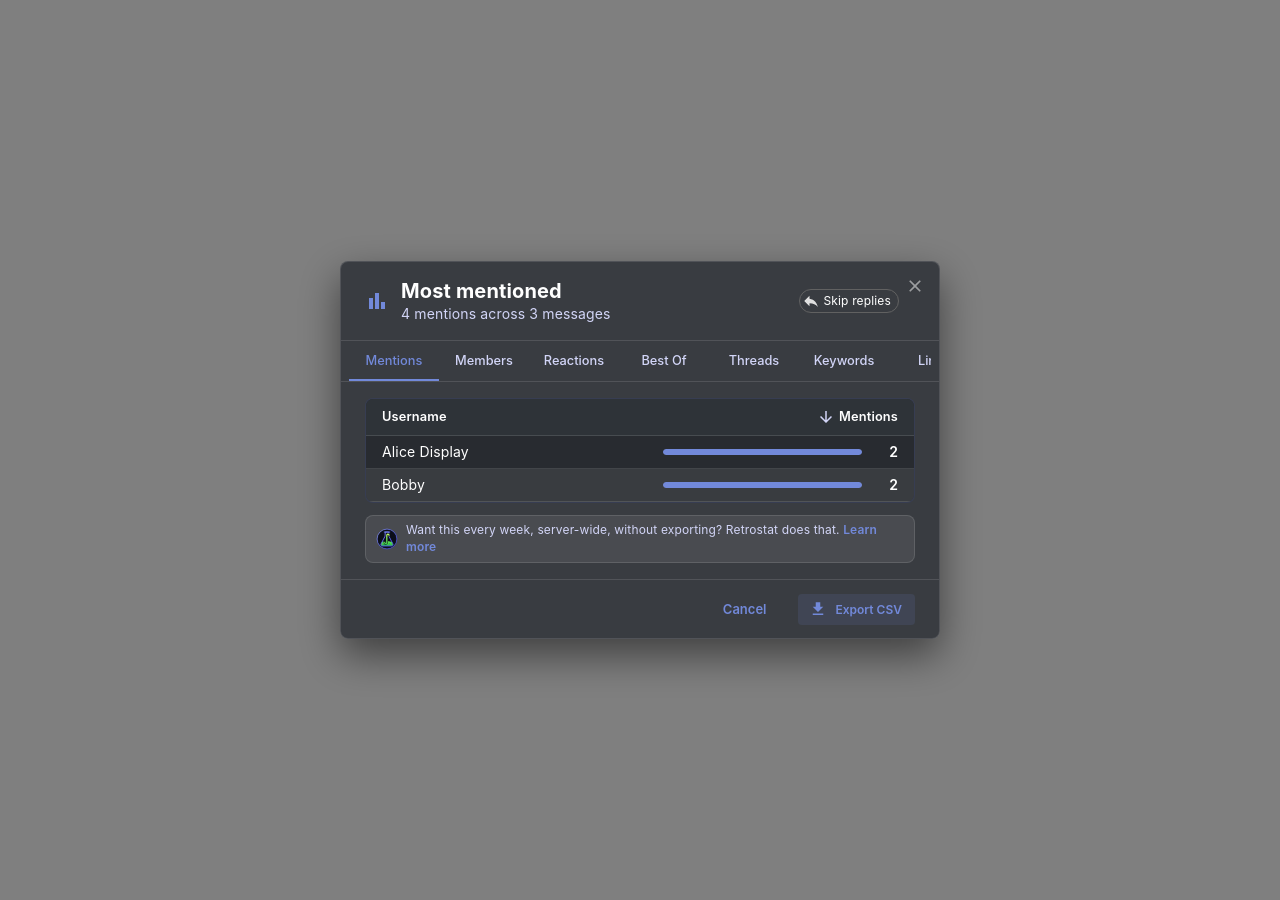
Test: AnalyticsModal › should exclude reply messages when skip replies is checked (Mentions only)
expect the text "4 mentions across 3 messages" is shown: met, box [401, 304, 611, 322]
Click the button "Skip replies" at [849, 300], box [800, 288, 899, 312]
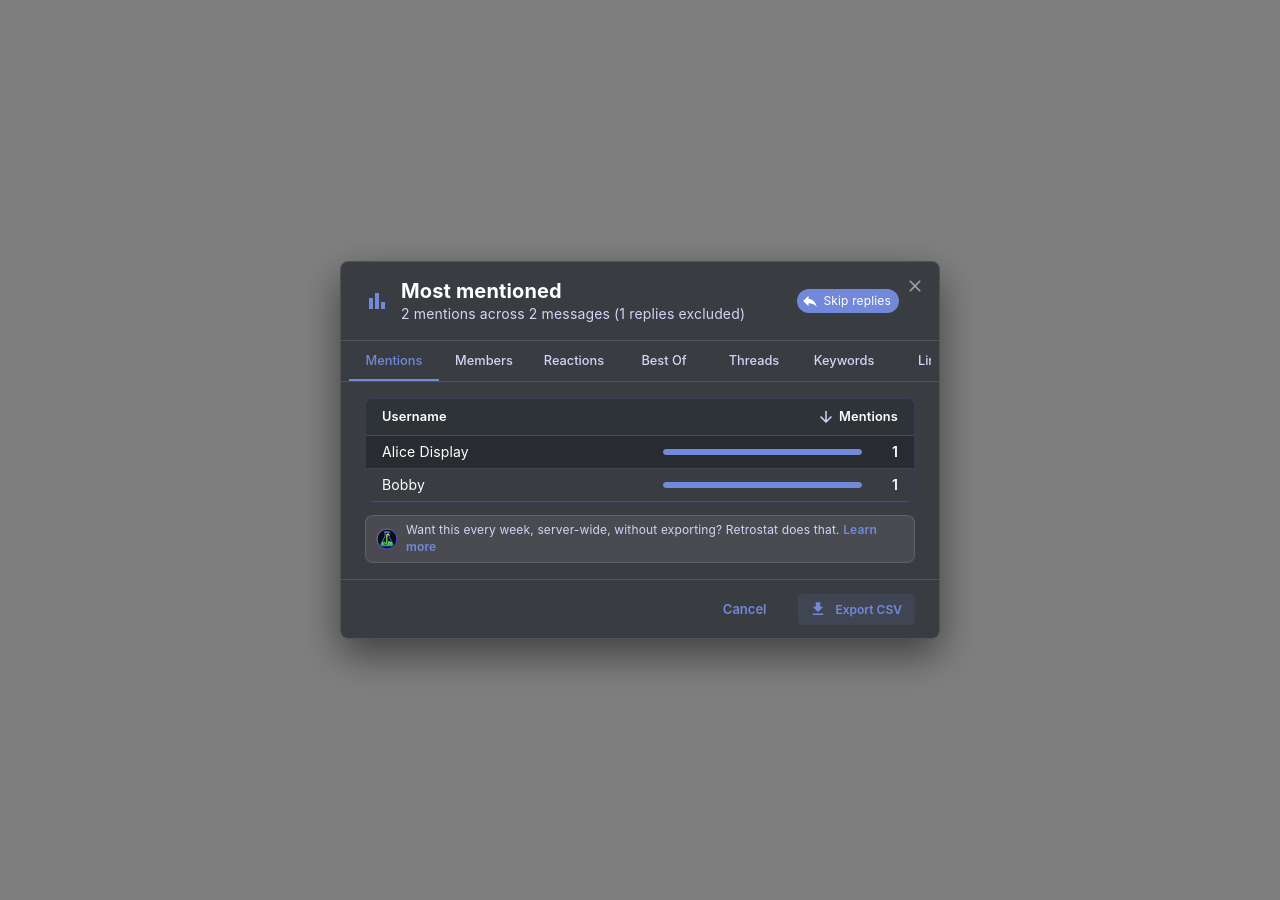
expect the text "2 mentions across 2 messages (1 replies excluded)" is shown: met, box [401, 304, 786, 324]
Click the tab "Members" at [484, 361], box [439, 341, 529, 381]
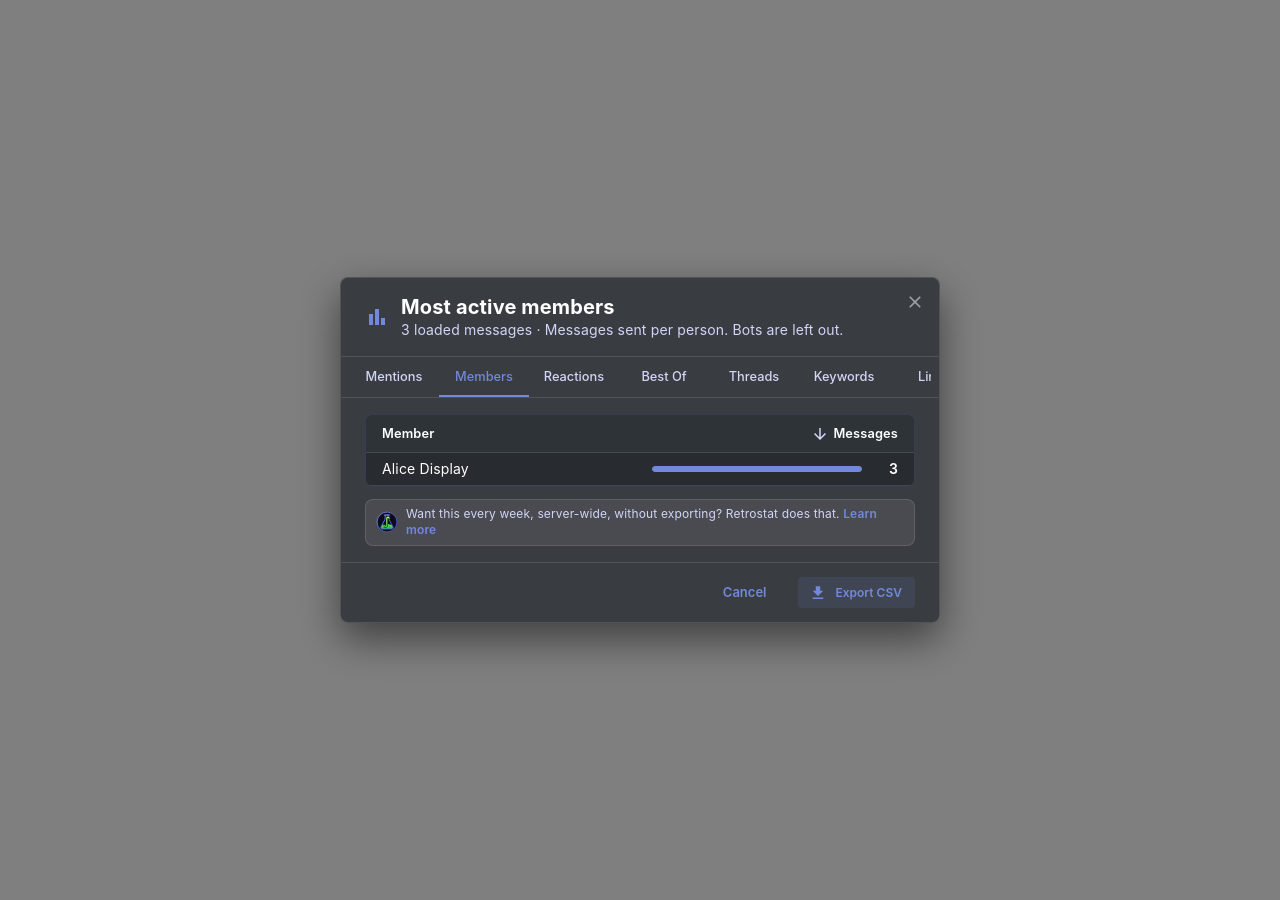
expect the button "Skip replies" is gone: met
expect the row with test id "analytics-row" shows "3": met, box [889, 460, 898, 477]
